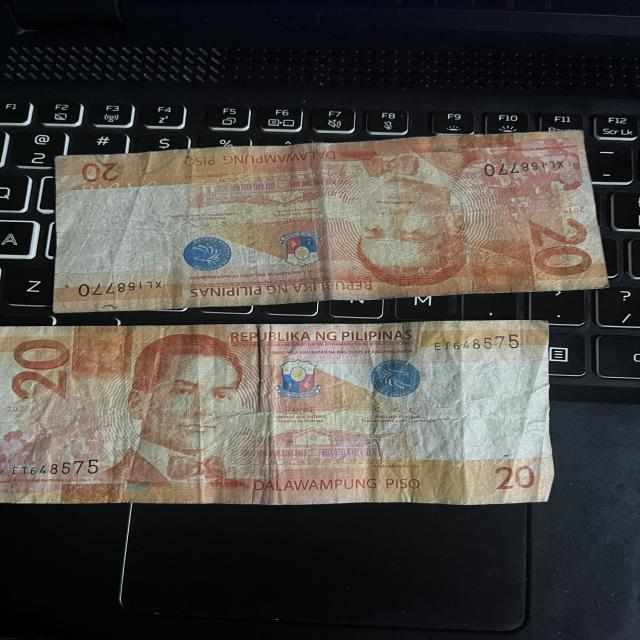concealed_value: (471, 238, 540, 295), (64, 327, 130, 378)
serial_number: (3, 452, 104, 485), (424, 324, 522, 354), (73, 275, 181, 295)
value: (6, 331, 84, 404), (518, 209, 599, 279)
